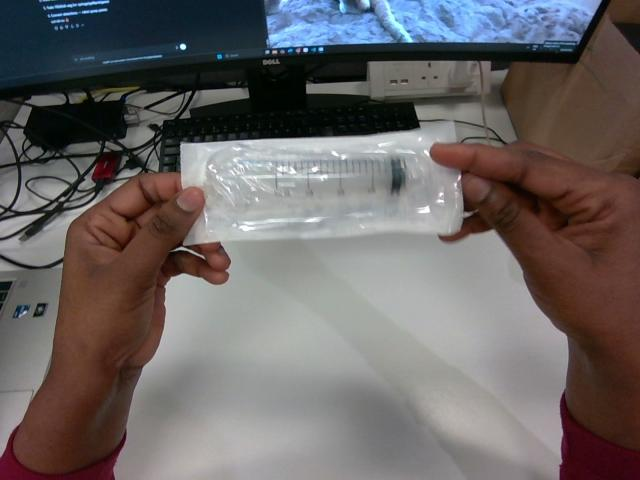syringe: (181, 122, 462, 244)
